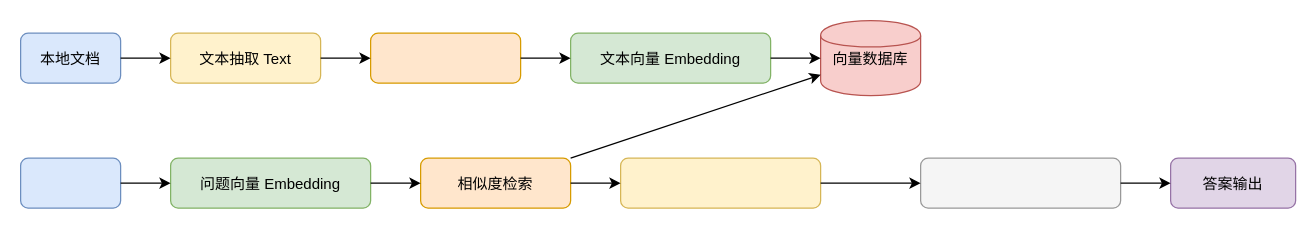
This 1316x229 diagram has some shape labels left out. Each missing label, with the centre of its shape:
LLM 大语言模型: [1020,182]
文本分割 Chunks: [445,57]
相关上下文 Context: [720,182]
问题: [70,182]
